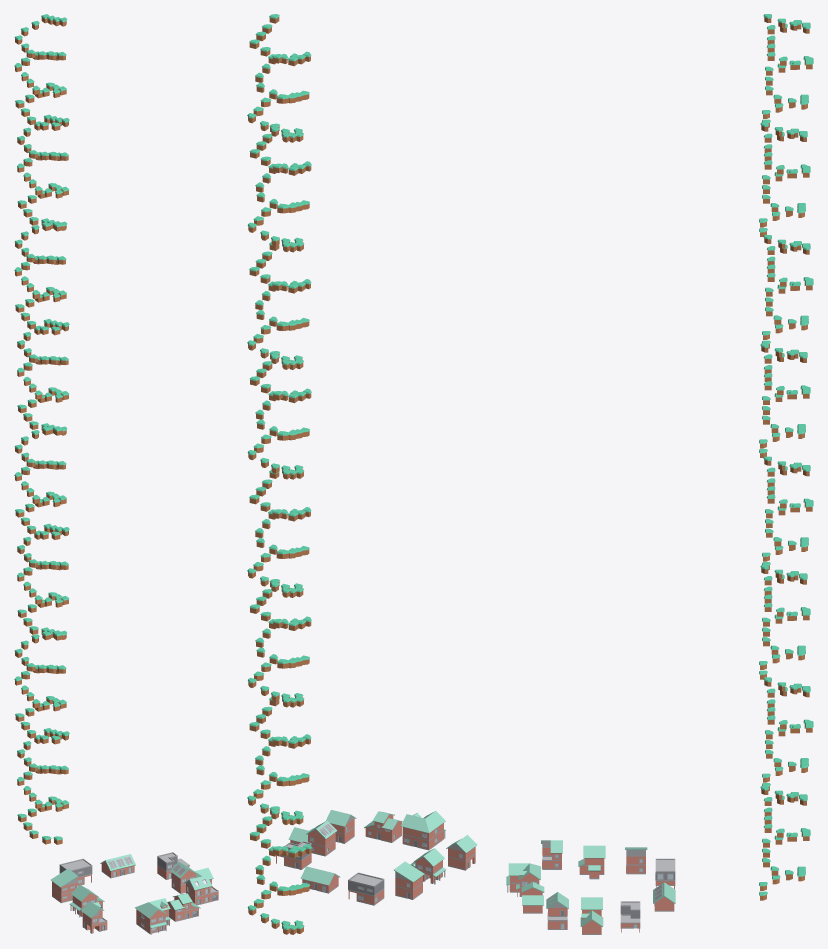
The model's file is BasicWorld.glb.
3 renders of one model, left to right at view 1: azimuth 30°, elevation 25°; view 2: azimuth 150°, elevation 25°; view 3: azimuth 270°, elevation 25°, orthographic. The views are drawn at different scales.
Parts seen in each view (by area): view 1: house_type02, house_type18, house_type15, house_type03, house_type14, house_type01, house_type16, house_type17, house_type20, house_type19; view 2: house_type02, house_type03, house_type20, house_type15, house_type14, house_type16, house_type17, house_type01, house_type18; view 3: house_type02, house_type03, house_type17, house_type18, house_type14.
Boxes of the visible parts, x1=… form: house_type02: x1=134, y1=898, x2=170, y2=934; house_type18: x1=184, y1=875, x2=218, y2=905; house_type15: x1=50, y1=868, x2=78, y2=903; house_type03: x1=170, y1=862, x2=213, y2=893; house_type14: x1=167, y1=893, x2=200, y2=921; house_type01: x1=100, y1=854, x2=135, y2=878; house_type16: x1=81, y1=901, x2=107, y2=933; house_type17: x1=69, y1=885, x2=104, y2=917; house_type20: x1=59, y1=858, x2=92, y2=886; house_type19: x1=157, y1=852, x2=189, y2=879; house_type02: x1=401, y1=811, x2=445, y2=850; house_type03: x1=288, y1=820, x2=337, y2=856; house_type20: x1=348, y1=872, x2=384, y2=905; house_type15: x1=394, y1=861, x2=424, y2=899; house_type14: x1=364, y1=811, x2=402, y2=842; house_type16: x1=446, y1=834, x2=477, y2=870; house_type17: x1=410, y1=848, x2=446, y2=884; house_type01: x1=300, y1=866, x2=340, y2=893; house_type18: x1=325, y1=810, x2=356, y2=843; house_type02: x1=506, y1=863, x2=540, y2=896; house_type03: x1=580, y1=897, x2=603, y2=934; house_type17: x1=578, y1=845, x2=605, y2=879; house_type18: x1=546, y1=892, x2=568, y2=929; house_type14: x1=521, y1=882, x2=544, y2=913.
Size of what is drawn, in the model's own units: 204 by 1132 by 355.
